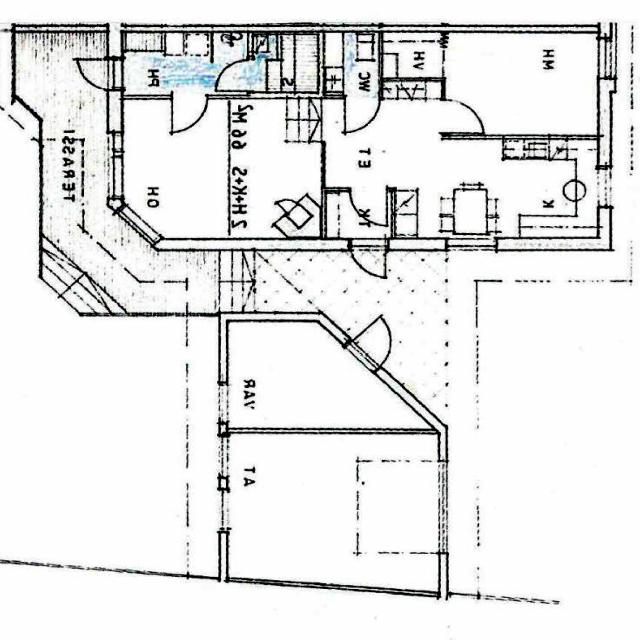door: (346, 315, 409, 373), (351, 238, 387, 282), (74, 58, 123, 89), (351, 188, 386, 224), (173, 94, 207, 130), (345, 92, 378, 129), (214, 60, 253, 90), (441, 101, 478, 132)
